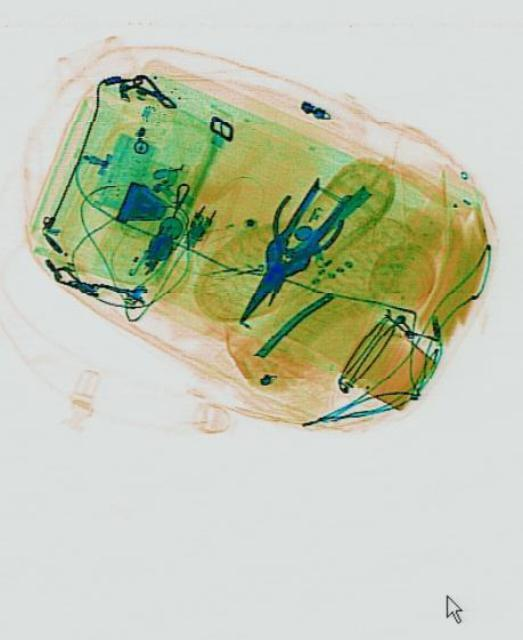Pliers: (232, 183, 343, 323)
